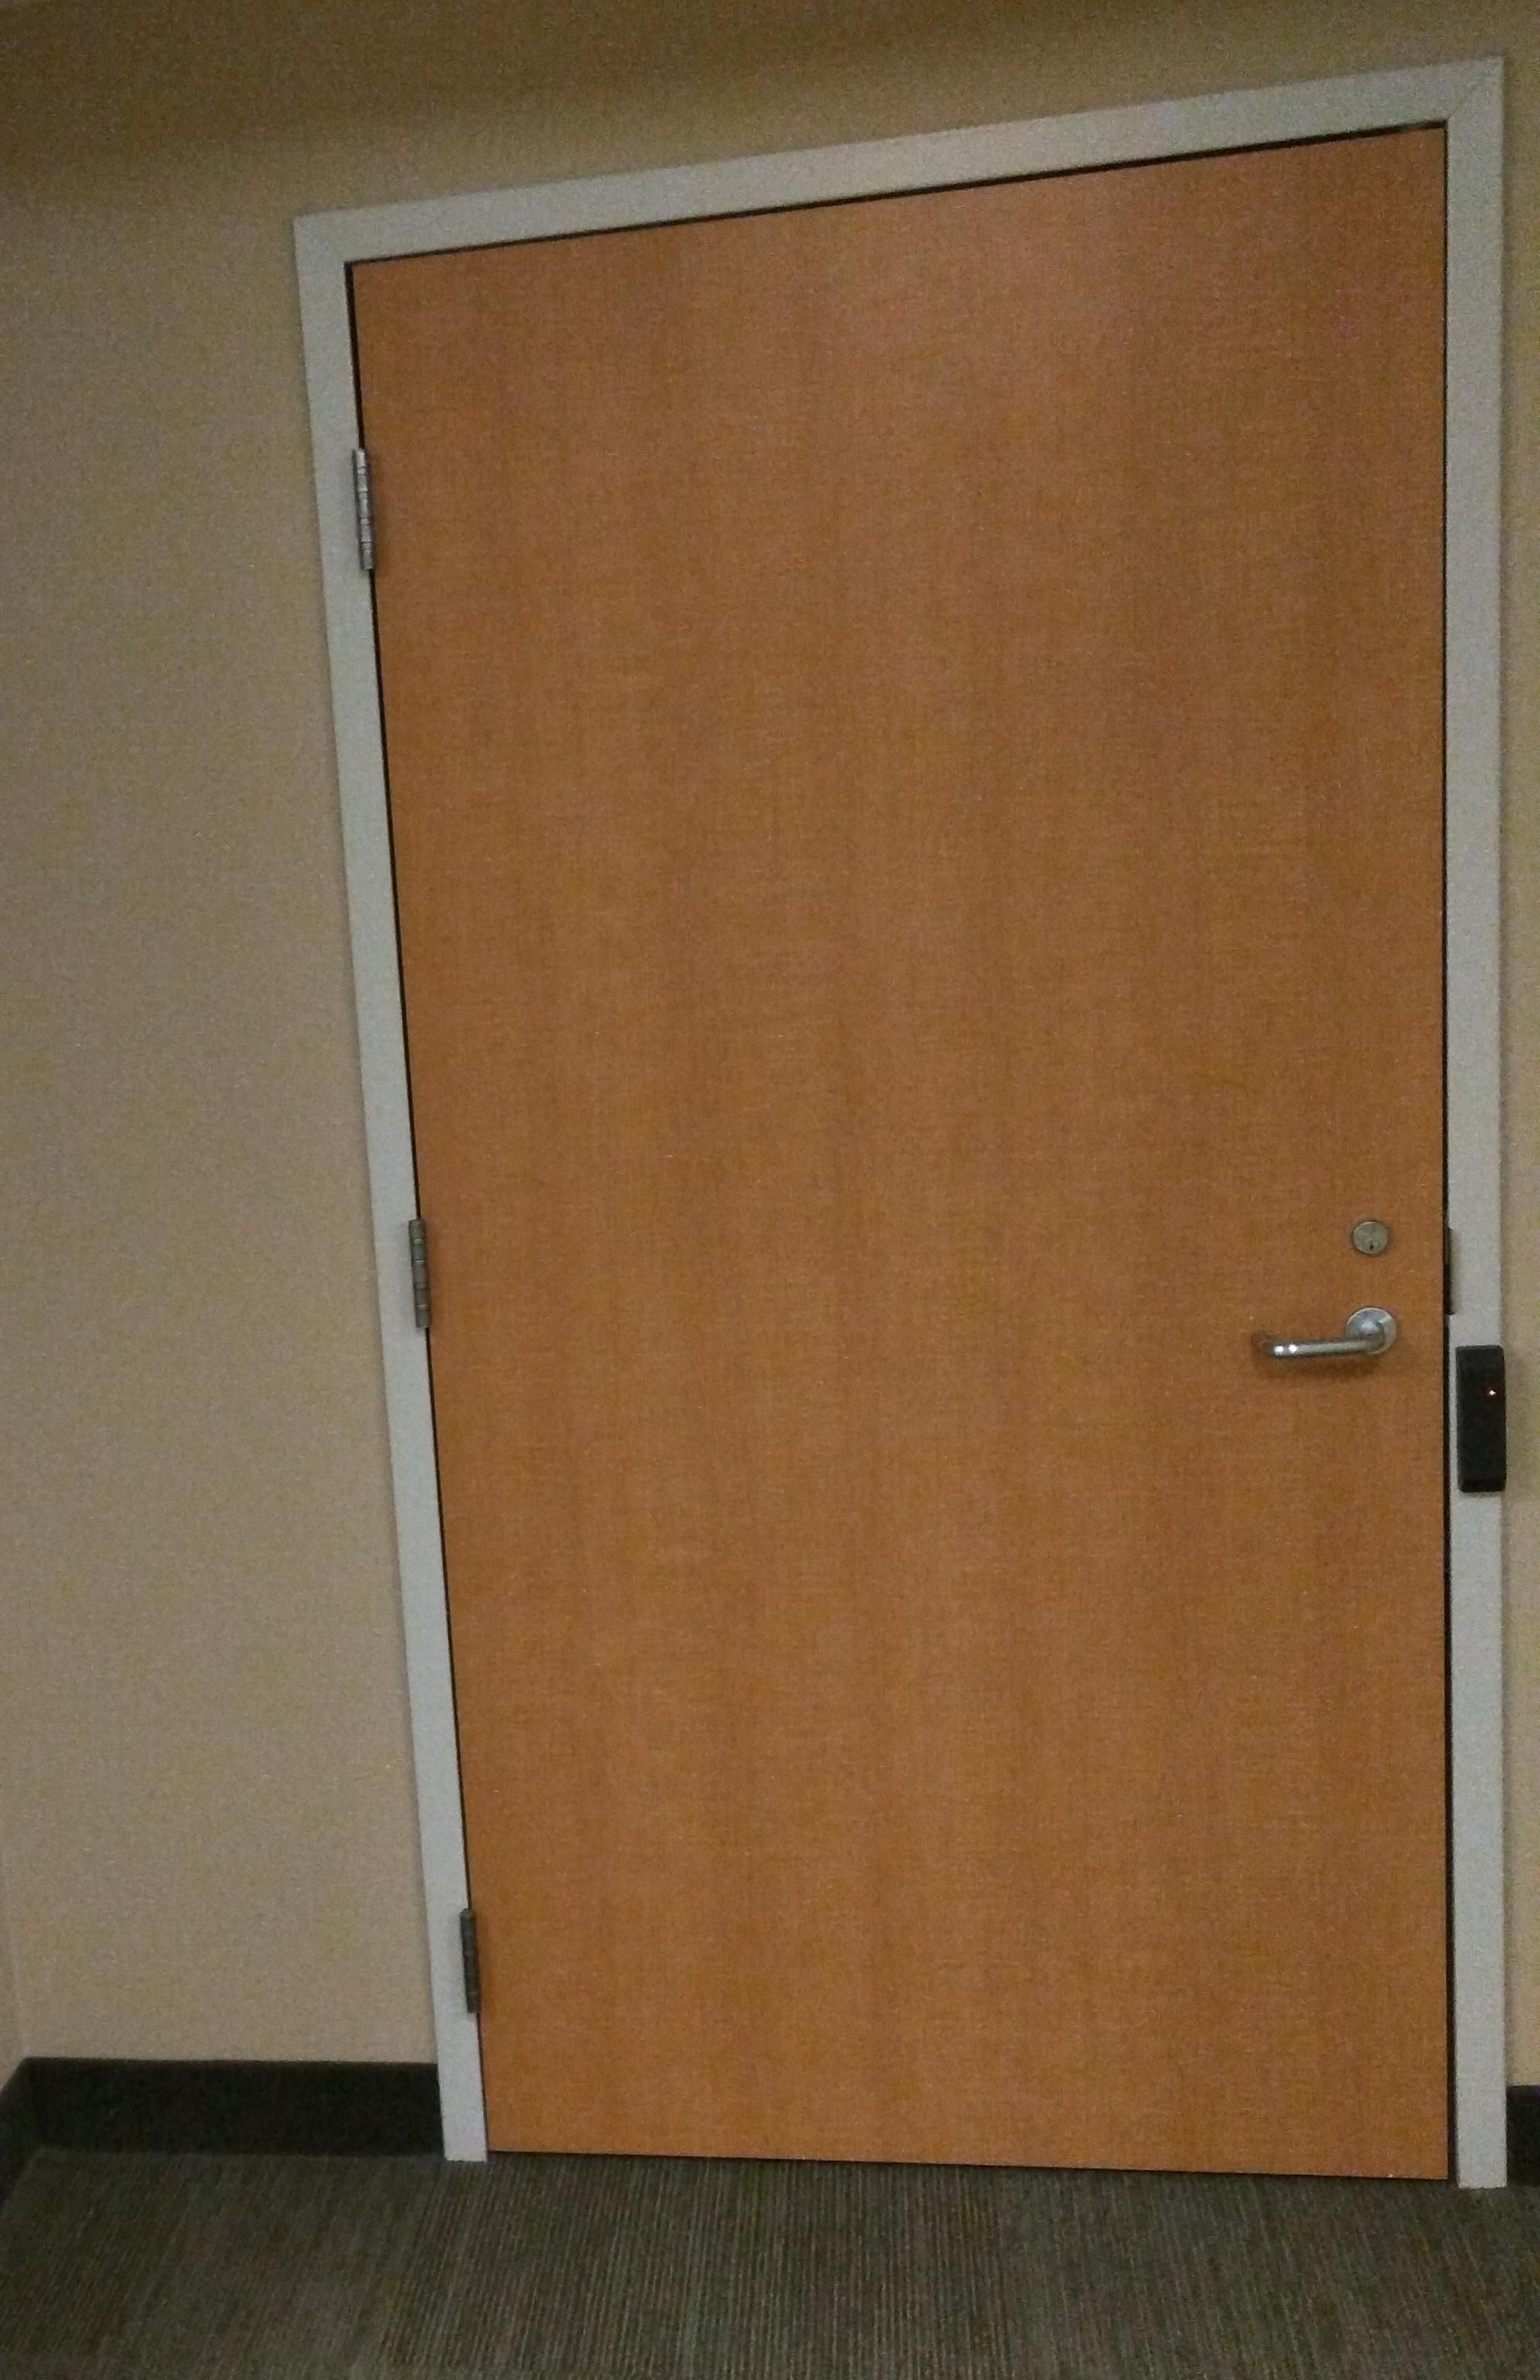door: (330, 198, 1505, 2158)
